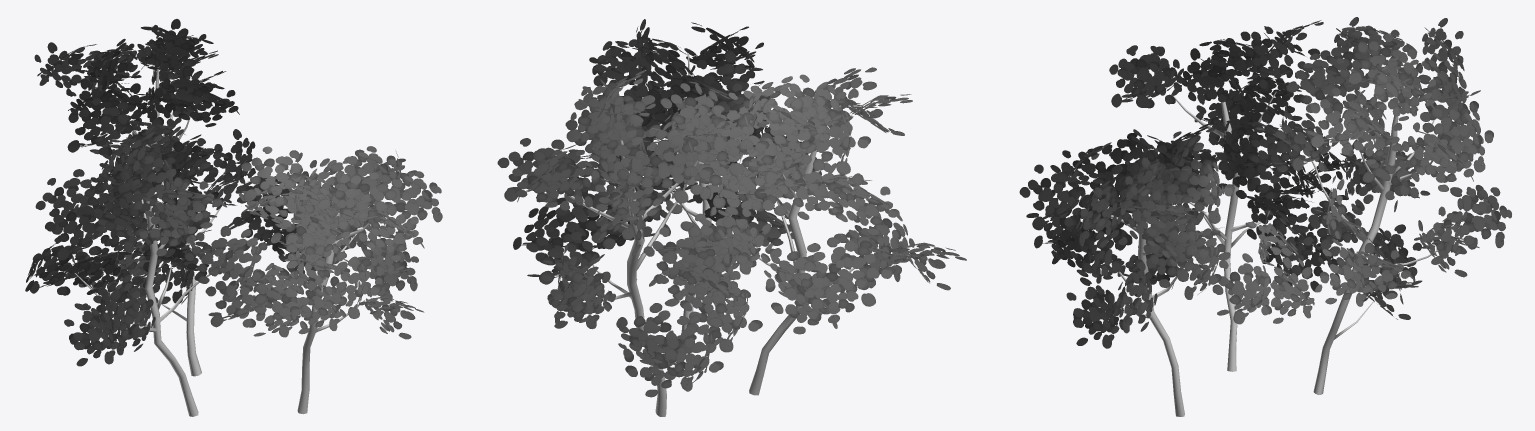
Rendered from SM_Bush_02.fbx.
3 renders of one model, left to right at view 1: azimuth 30°, elevation 25°; view 2: azimuth 150°, elevation 25°; view 3: azimuth 270°, elevation 25°, orthographic. The views are drawn at different scales.
Parts seen in each view (by area): view 1: SM_Bush_02_LOD0; view 2: SM_Bush_02_LOD0; view 3: SM_Bush_02_LOD0.
Boxes of the visible parts, x1=… form: SM_Bush_02_LOD0: x1=25, y1=19, x2=442, y2=416; SM_Bush_02_LOD0: x1=497, y1=19, x2=966, y2=416; SM_Bush_02_LOD0: x1=1019, y1=17, x2=1511, y2=416.
Size of what is drawn, in the model's own units: 2.03 by 1.81 by 2.35.
